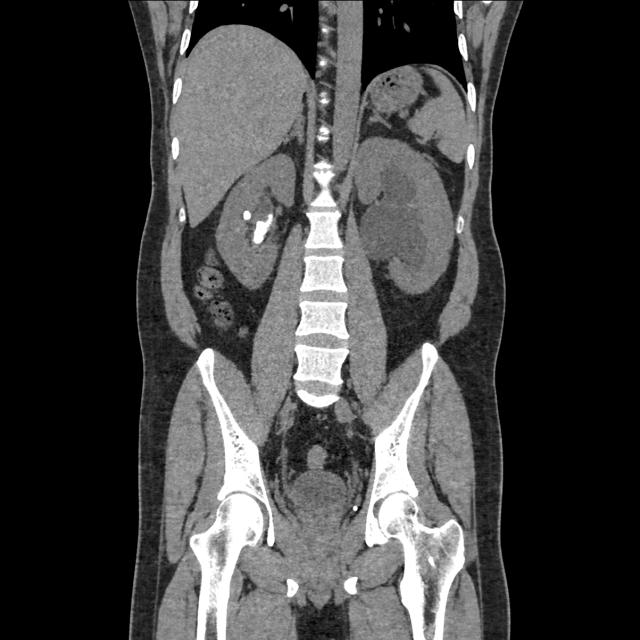kidneystone: (252, 213, 272, 244), (242, 210, 251, 221)
